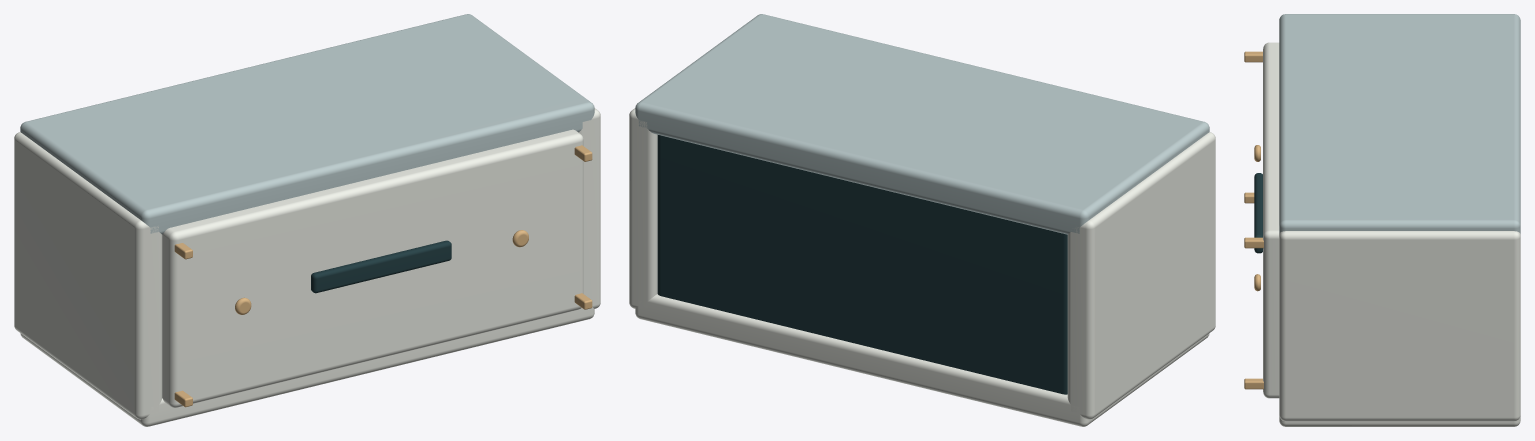
File: plinth-cache.glb
3 views of the same model, side by side, from view 1: azimuth 30°, elevation 25°; view 2: azimuth 150°, elevation 25°; view 3: azimuth 270°, elevation 25° (orthographic). The views are drawn at different scales.
Parts seen in each view (by area): view 1: Flush ceramic fascia, plinth-cache | Secret | machined aluminum, plinth-cache | Secret | porcelain, Recessed handle, plinth-cache | Secret | champagne metal; view 2: plinth-cache | Secret | machined aluminum, Recess backing, plinth-cache | Secret | porcelain; view 3: plinth-cache | Secret | machined aluminum, plinth-cache | Secret | porcelain, Flush ceramic fascia, plinth-cache | Secret | champagne metal, Recessed handle.
Boxes of the visible parts, x1,y1,x2,y2 form: Flush ceramic fascia: (162, 129, 583, 407); plinth-cache | Secret | machined aluminum: (20, 14, 594, 234); plinth-cache | Secret | porcelain: (14, 108, 600, 426); Recessed handle: (311, 240, 451, 293); plinth-cache | Secret | champagne metal: (174, 145, 592, 407); plinth-cache | Secret | machined aluminum: (635, 14, 1209, 234); Recess backing: (657, 135, 1067, 394); plinth-cache | Secret | porcelain: (629, 108, 1215, 426); plinth-cache | Secret | machined aluminum: (1279, 14, 1520, 233); plinth-cache | Secret | porcelain: (1279, 231, 1520, 426); Flush ceramic fascia: (1263, 42, 1279, 398); plinth-cache | Secret | champagne metal: (1244, 51, 1263, 389); Recessed handle: (1254, 173, 1262, 253).
Size of the model in its own units: 1.91 by 0.85 by 1.03.
